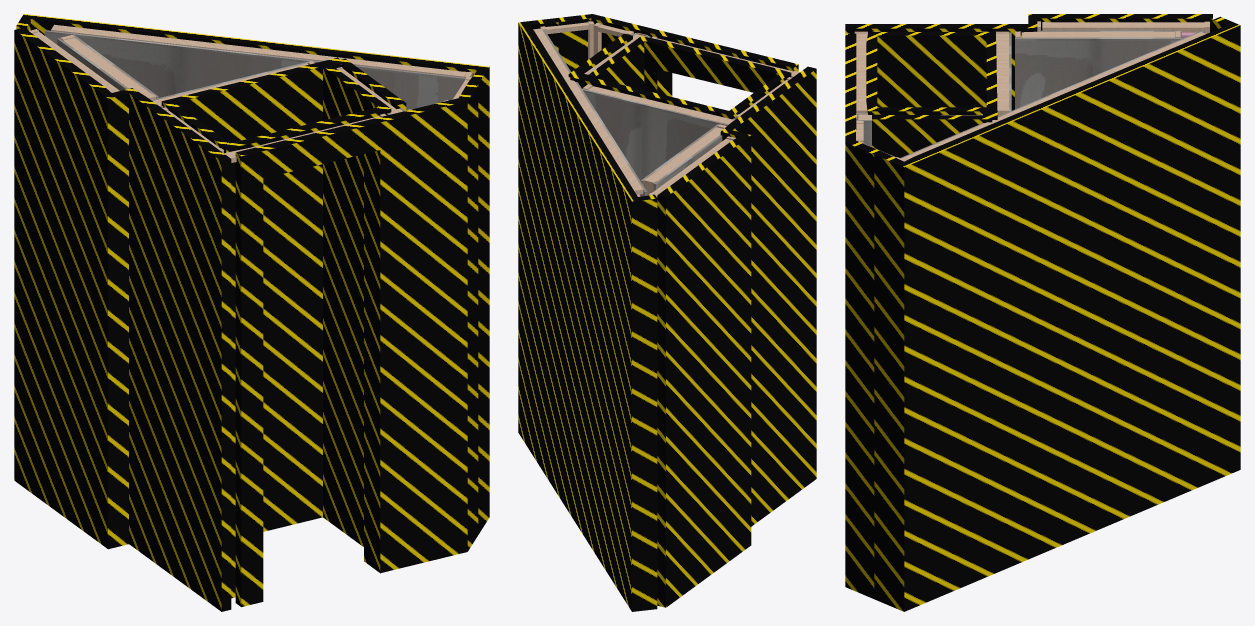
The model's file is WALLSET_N.FBX.
3 views of the same model, side by side, from view 1: azimuth 30°, elevation 25°; view 2: azimuth 150°, elevation 25°; view 3: azimuth 270°, elevation 25° (orthographic). The views are drawn at different scales.
Visible parts, largest first — view 1: SELECTOR_02, DRYWALL_21, FRAME_179, FRAME_163; view 2: SELECTOR_02, DRYWALL_21, FRAME_179, FRAME_163; view 3: SELECTOR_02, DRYWALL_21, FRAME_179, FRAME_163.
Boxes of the visible parts, <box> form: SELECTOR_02: <box>14,14,489,611</box>; DRYWALL_21: <box>45,30,465,115</box>; FRAME_179: <box>51,24,472,162</box>; FRAME_163: <box>29,29,119,92</box>; SELECTOR_02: <box>518,14,816,611</box>; DRYWALL_21: <box>543,30,735,196</box>; FRAME_179: <box>533,21,799,195</box>; FRAME_163: <box>648,136,735,197</box>; SELECTOR_02: <box>845,14,1240,611</box>; DRYWALL_21: <box>856,30,1204,158</box>; FRAME_179: <box>854,31,1205,161</box>; FRAME_163: <box>1037,21,1209,33</box>.
Bounding box in the file's own units: 66.77 × 90.28 × 72.71.
